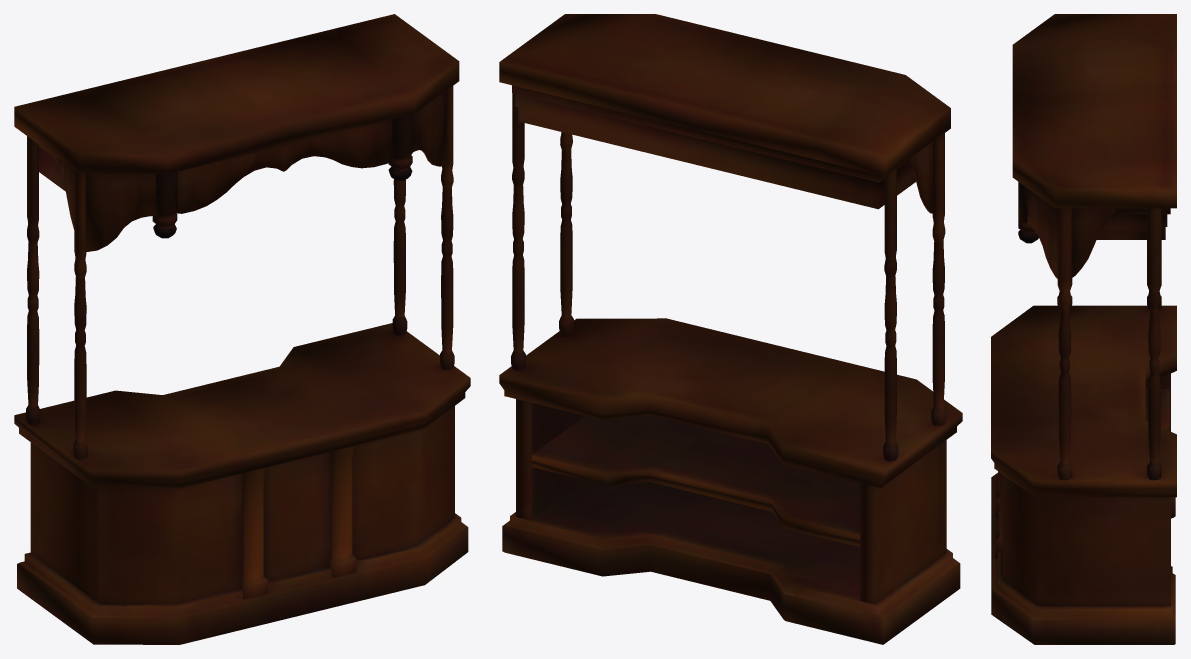
The picture shows the model from 3 angles, left to right: view 1: azimuth 30°, elevation 25°; view 2: azimuth 150°, elevation 25°; view 3: azimuth 270°, elevation 25°; orthographic projection. The views are drawn at different scales.
Bounding box in the file's own units: 19.97 × 24.27 × 8.94.
1 material, 1 textured.
